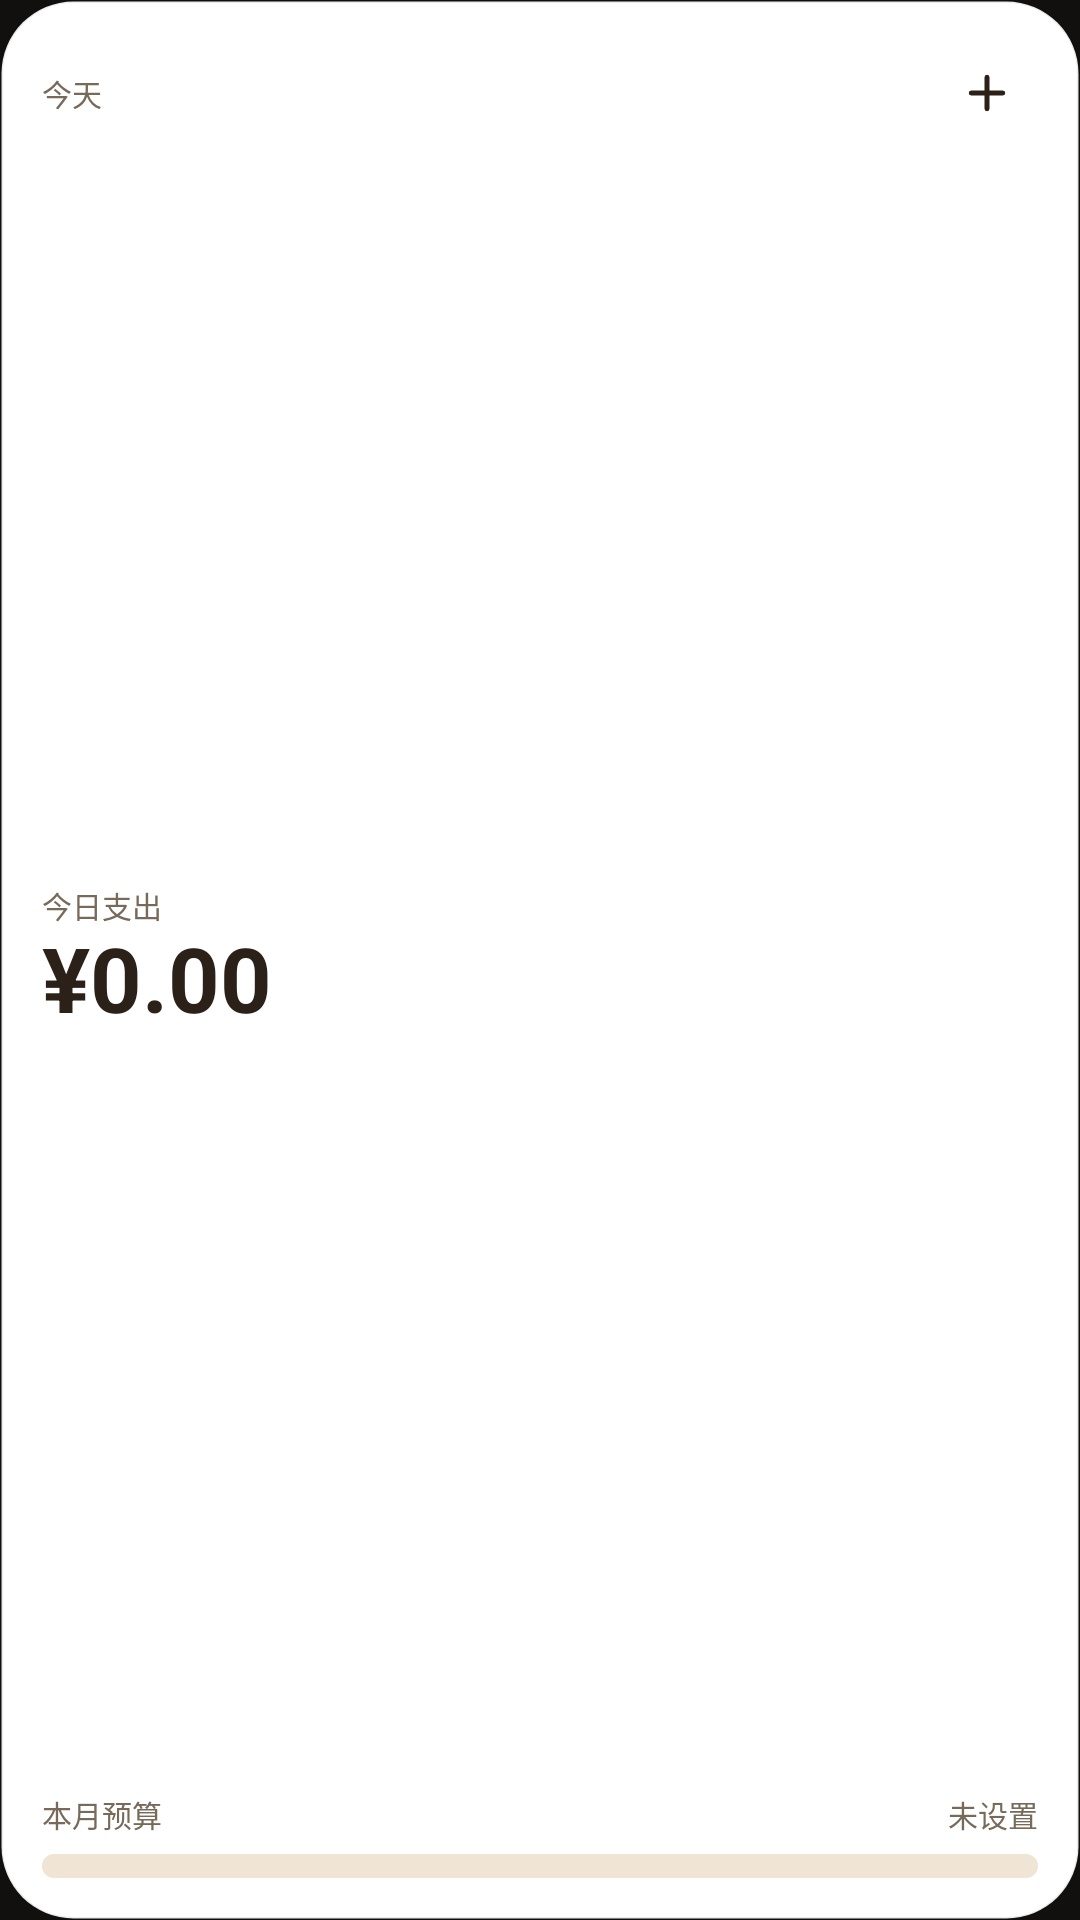

Screen size 1080x1920. Icon name, then its box in pixels as (x1, y1, x2, y2):
记一笔: (969, 75, 1005, 111)
